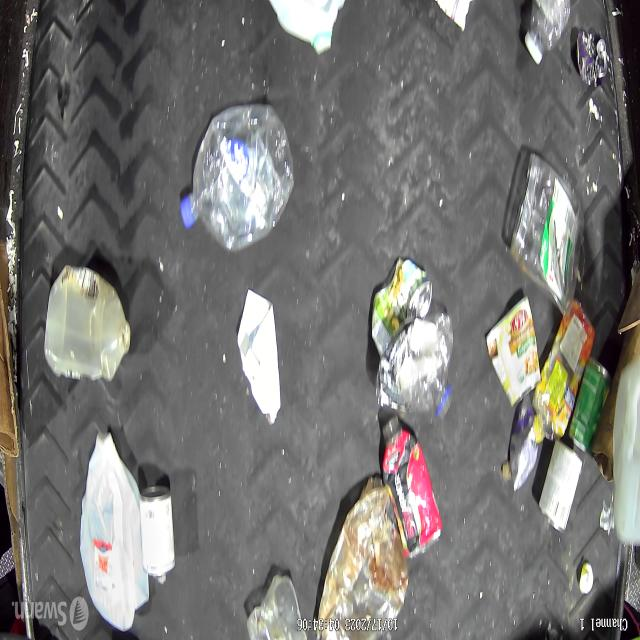can: (486, 298, 541, 405), (538, 442, 584, 534), (137, 482, 176, 584), (570, 358, 610, 454), (389, 258, 432, 322)
milk_jug: (79, 432, 148, 628), (42, 264, 131, 384), (254, 0, 351, 57), (612, 342, 638, 544)
plastic_bottle: (181, 104, 294, 253), (524, 0, 576, 66)
